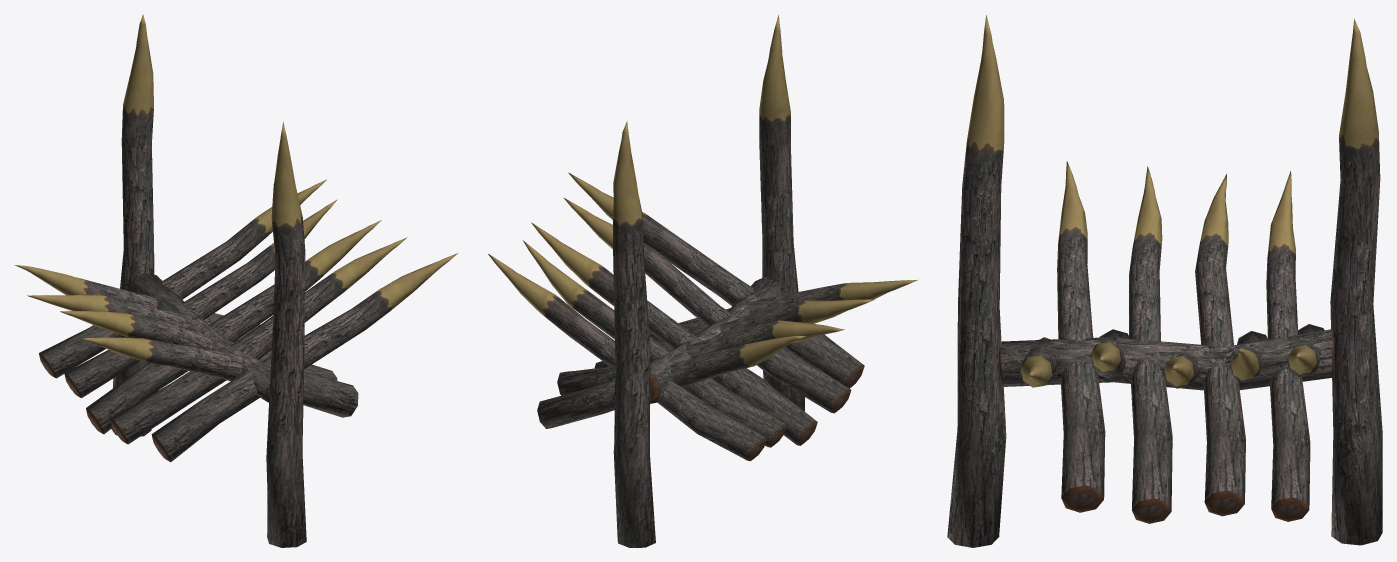
The model's file is barricade.dae.
3 renders of one model, left to right at view 1: azimuth 30°, elevation 25°; view 2: azimuth 150°, elevation 25°; view 3: azimuth 270°, elevation 25°, orthographic. The views are drawn at different scales.
Parts seen in each view (by area): view 1: Circle_001, Circle_004, Circle_002, Circle_005, Circle_006, Circle_013, Circle_008, Circle_007, Circle_012, Circle_003, Circle_011, Circle_010; view 2: Circle_002, Circle_001, Circle_008, Circle_005, Circle_004, Circle_006, Circle_010, Circle_007, Circle_011, Circle_003, Circle_013, Circle_012; view 3: Circle_002, Circle_001, Circle_013, Circle_012, Circle_011, Circle_010, Circle_003, Circle_004, Circle_005, Circle_007, Circle_008, Circle_006.
Part boxes in pixels (bbox=[...]): Circle_001: bbox=[266, 122, 306, 547]; Circle_004: bbox=[151, 253, 457, 461]; Circle_002: bbox=[111, 14, 154, 436]; Circle_005: bbox=[110, 237, 407, 444]; Circle_006: bbox=[86, 220, 381, 434]; Circle_013: bbox=[81, 337, 358, 417]; Circle_008: bbox=[39, 179, 326, 378]; Circle_007: bbox=[64, 199, 337, 398]; Circle_012: bbox=[60, 311, 337, 380]; Circle_003: bbox=[128, 273, 270, 402]; Circle_011: bbox=[27, 294, 271, 351]; Circle_010: bbox=[14, 265, 260, 331]; Circle_002: bbox=[613, 121, 655, 547]; Circle_001: bbox=[759, 15, 804, 411]; Circle_008: bbox=[488, 254, 767, 461]; Circle_005: bbox=[563, 197, 851, 413]; Circle_004: bbox=[568, 172, 864, 388]; Circle_006: bbox=[531, 222, 817, 445]; Circle_010: bbox=[537, 335, 806, 428]; Circle_007: bbox=[523, 240, 787, 447]; Circle_011: bbox=[557, 320, 844, 395]; Circle_003: bbox=[650, 276, 783, 403]; Circle_013: bbox=[649, 279, 918, 342]; Circle_012: bbox=[594, 299, 875, 368]; Circle_002: bbox=[1330, 18, 1382, 545]; Circle_001: bbox=[947, 15, 1006, 547]; Circle_013: bbox=[1057, 161, 1105, 512]; Circle_012: bbox=[1129, 166, 1172, 523]; Circle_011: bbox=[1195, 174, 1245, 516]; Circle_010: bbox=[1266, 171, 1310, 521]; Circle_003: bbox=[999, 329, 1333, 390]; Circle_004: bbox=[1019, 337, 1058, 387]; Circle_005: bbox=[1090, 329, 1128, 379]; Circle_007: bbox=[1230, 331, 1267, 381]; Circle_008: bbox=[1287, 324, 1324, 377]; Circle_006: bbox=[1163, 352, 1198, 388].
Bounding box in the file's own units: 8.2 × 6.72 × 8.97.
Materials: 1 (1 with a texture image).
